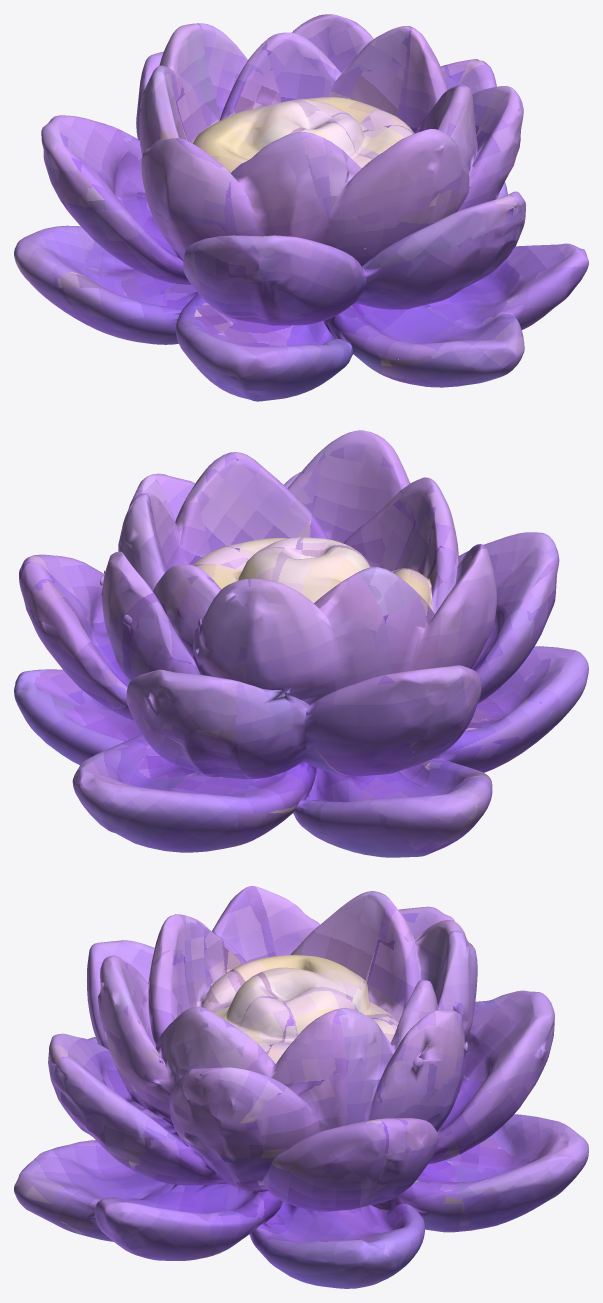
File: prop_lotus.glb
The picture shows the model from 3 angles, top to bottom: view 1: azimuth 30°, elevation 25°; view 2: azimuth 150°, elevation 25°; view 3: azimuth 270°, elevation 25°; orthographic projection. The views are drawn at different scales.
Visible parts, largest first — view 1: tripo_node_bffdd6c5-e77e-491c-b41e-2a8cfb2e9ec0; view 2: tripo_node_bffdd6c5-e77e-491c-b41e-2a8cfb2e9ec0; view 3: tripo_node_bffdd6c5-e77e-491c-b41e-2a8cfb2e9ec0.
Part boxes in pixels (<box>): tripo_node_bffdd6c5-e77e-491c-b41e-2a8cfb2e9ec0: <box>14,14,588,401</box>; tripo_node_bffdd6c5-e77e-491c-b41e-2a8cfb2e9ec0: <box>14,430,588,857</box>; tripo_node_bffdd6c5-e77e-491c-b41e-2a8cfb2e9ec0: <box>14,886,588,1288</box>.
Bounding box in the file's own units: 0.9238 × 0.4875 × 0.9806.
1 material, 1 textured.
